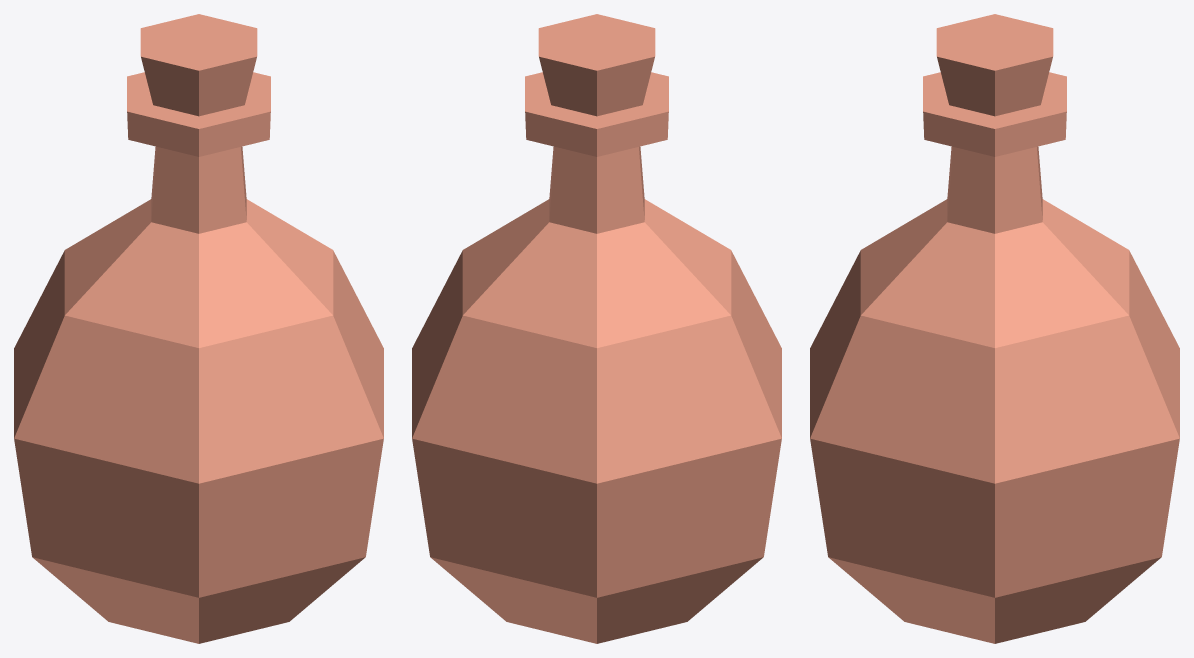
Rendered from Potion.002.fbx.
The picture shows the model from 3 angles, left to right: view 1: azimuth 30°, elevation 25°; view 2: azimuth 150°, elevation 25°; view 3: azimuth 270°, elevation 25°; orthographic projection.
Parts seen in each view (by area): view 1: Potion.002; view 2: Potion.002; view 3: Potion.002.
Boxes of the visible parts, bbox=[...] form: Potion.002: bbox=[14, 14, 383, 643]; Potion.002: bbox=[412, 14, 781, 643]; Potion.002: bbox=[810, 14, 1179, 643].
Bounding box in the file's own units: 17.89 × 25.77 × 15.5.
